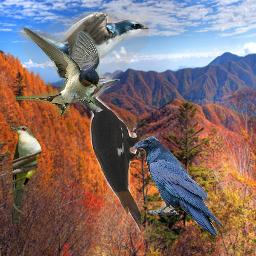Crow: (132, 136, 223, 235)
Cuckoo: (9, 125, 43, 224)
Swallow: (17, 10, 149, 81), (14, 25, 100, 116)
Woodpecker: (61, 79, 141, 233)
